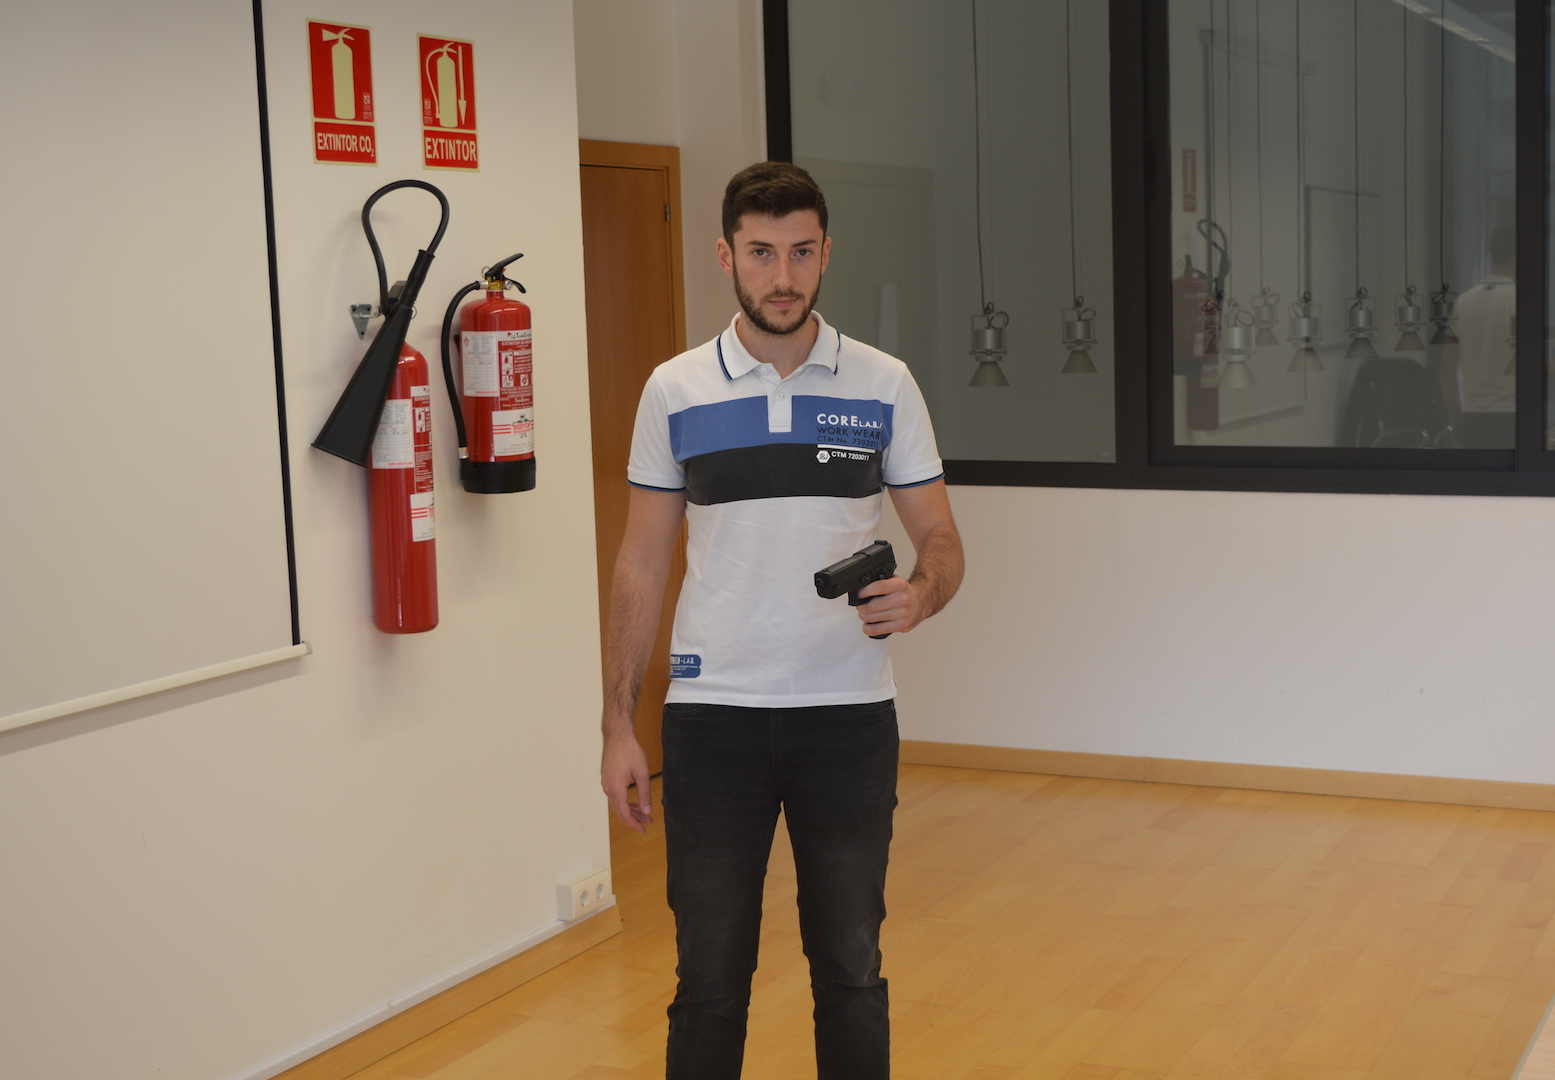pistol: (813, 539, 899, 640)
